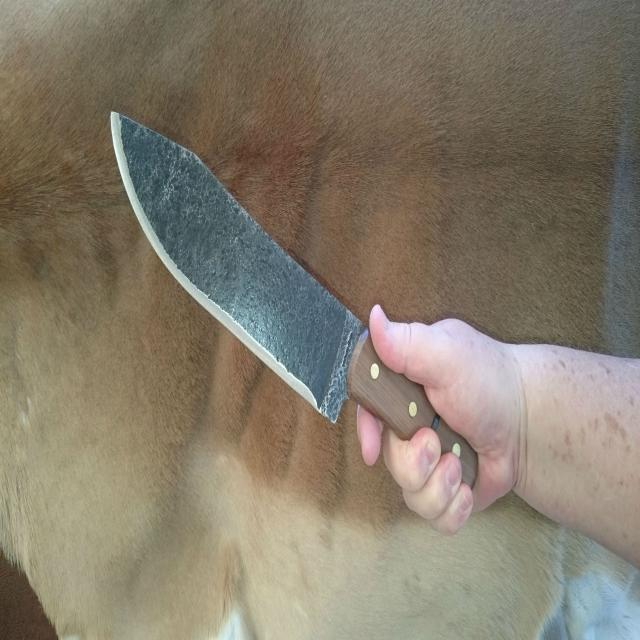knife: (109, 105, 480, 498)
